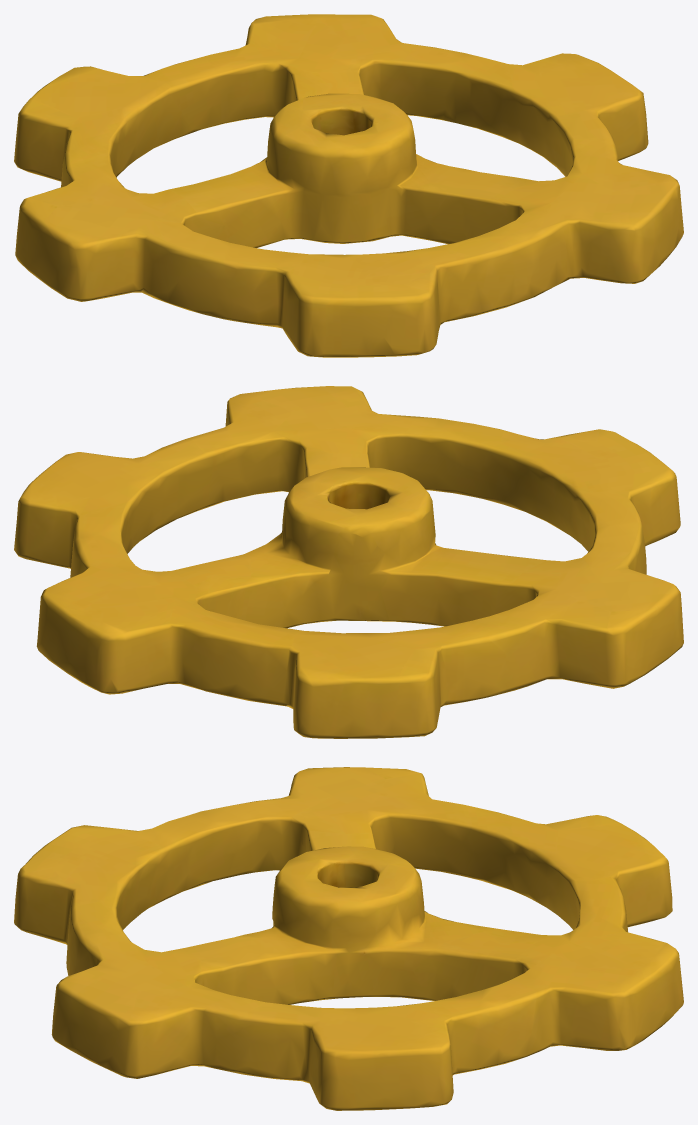
The model's file is factory-gear-small.glb.
The picture shows the model from 3 angles, top to bottom: view 1: azimuth 30°, elevation 25°; view 2: azimuth 150°, elevation 25°; view 3: azimuth 270°, elevation 25°; orthographic projection. The views are drawn at different scales.
Parts seen in each view (by area): view 1: gear; view 2: gear; view 3: gear.
Part boxes in pixels (x1,y1,x2,y2): gear: (14, 14, 683, 357); gear: (14, 386, 683, 738); gear: (14, 767, 683, 1110).
Size of the model in its own units: 0.7903 by 0.1173 by 0.7658.
Materials: 1 (1 with a texture image).
